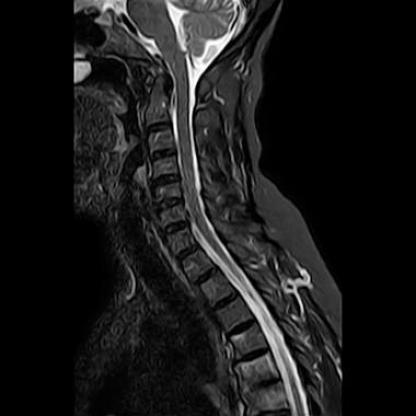Disc Bulgerotation: (151, 195, 185, 213), (146, 173, 182, 189), (160, 220, 190, 235)
